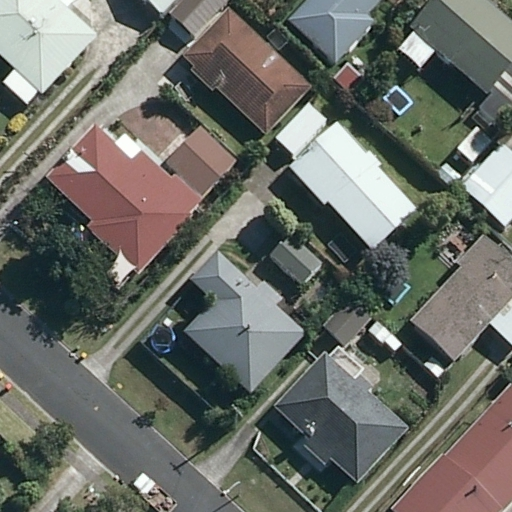DT: (230, 403, 242, 432)
